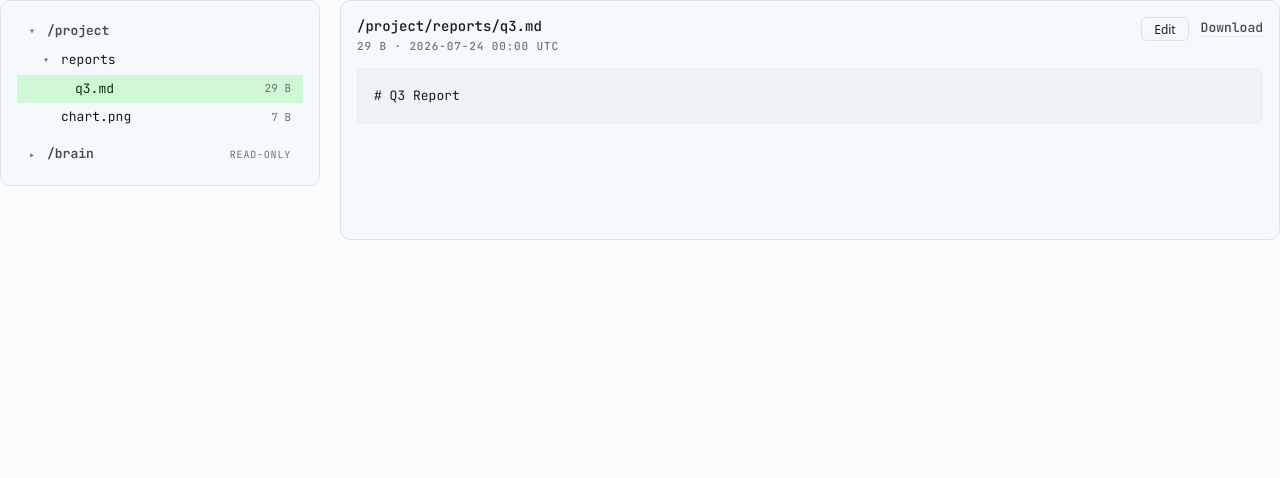
Test: FilesBody editing › keeps Save disabled until the text actually changes
Step 1. Click the button "Edit" → [1165, 29], box [1141, 17, 1189, 41]
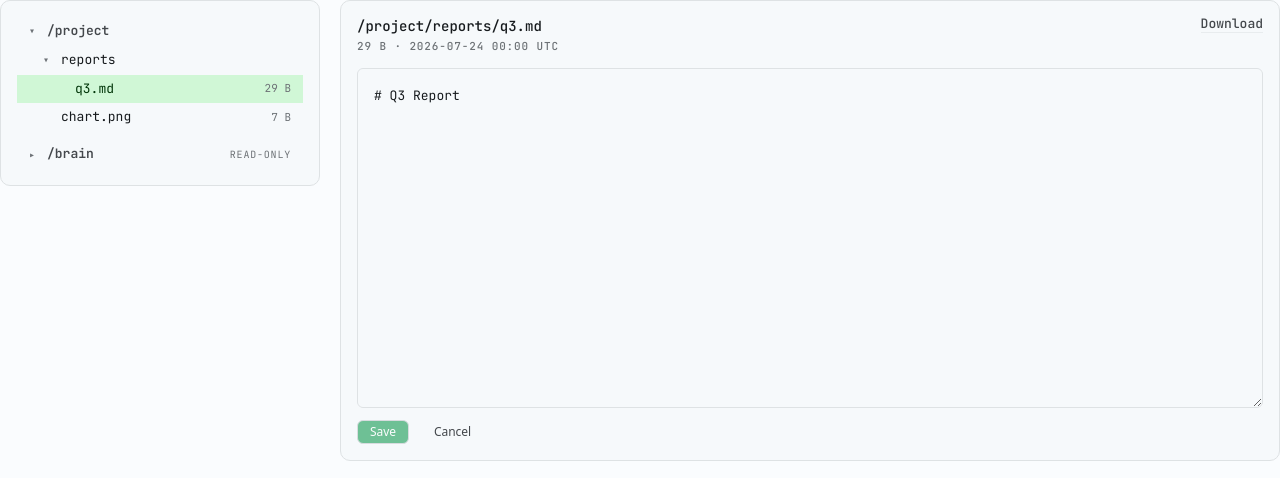
Check: the button "Save" is disabled, box [357, 420, 409, 444]
Step 2. Replace the text in the text box with "changed" → [810, 238], box [357, 68, 1263, 408]
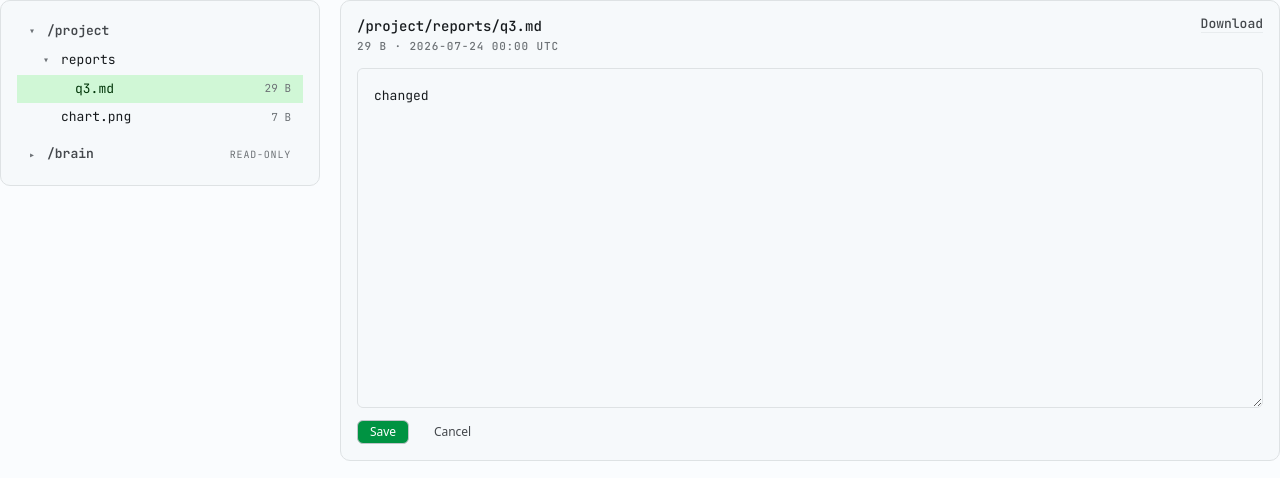
Check: the button "Save" is enabled, box [357, 420, 409, 444]
